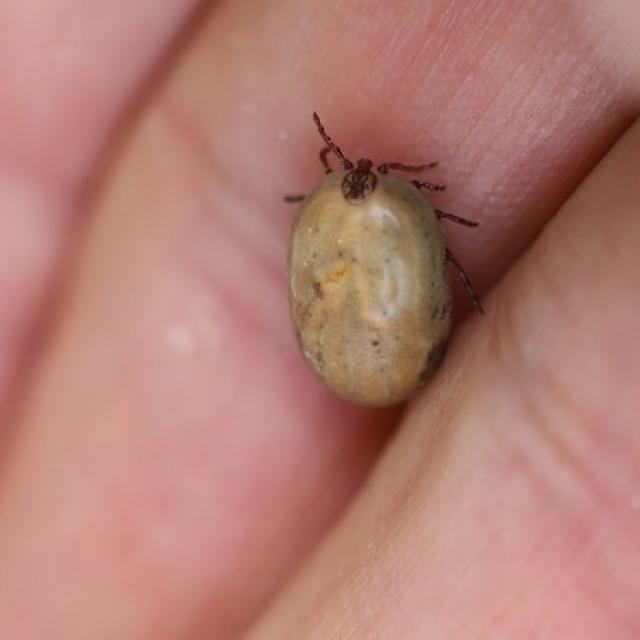Dermacentor Reticulatus-F-Fed: (283, 112, 485, 410)
